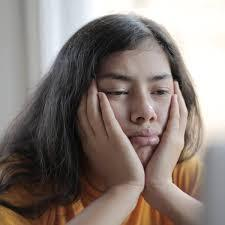Persons: (49, 11, 203, 183)
